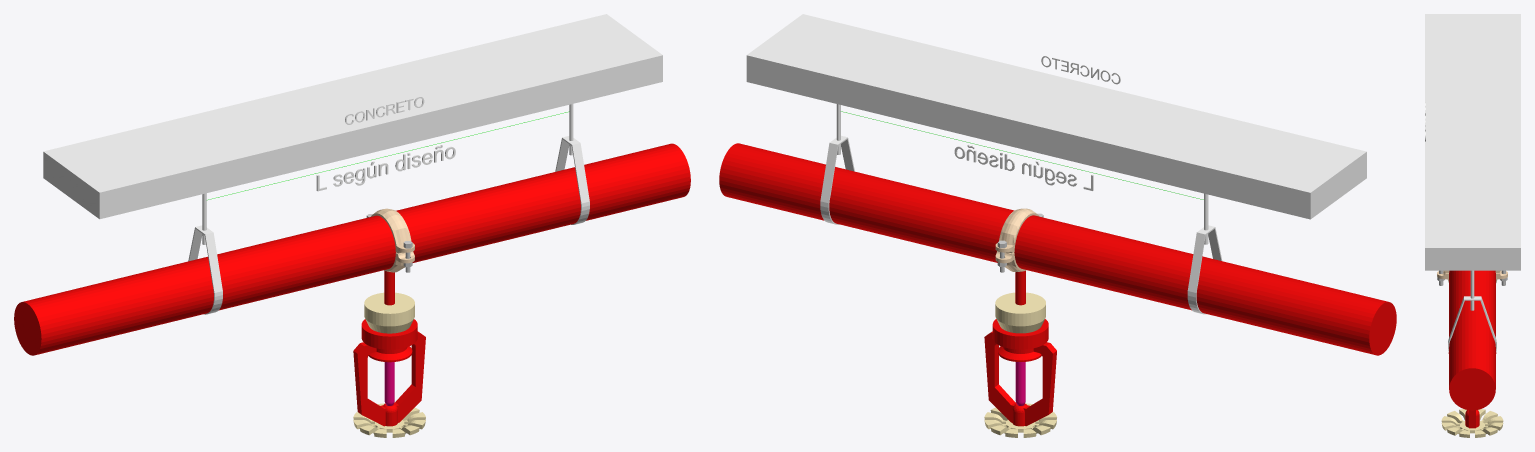
Rendered from rociador.glb.
3 views of the same model, side by side, from view 1: azimuth 30°, elevation 25°; view 2: azimuth 150°, elevation 25°; view 3: azimuth 270°, elevation 25° (orthographic). The views are drawn at different scales.
Visible parts, largest first — view 1: Geom3D (×10); view 2: Geom3D (×10); view 3: Geom3D (×6).
Boxes of the visible parts, x1,y1,x2,y2 form: Geom3D (×10): (14,14,690,437); Geom3D (×10): (719,14,1396,437); Geom3D (×6): (1425,14,1520,437).
Bounding box in the file's own units: 34.19 × 17.65 × 5.14.
